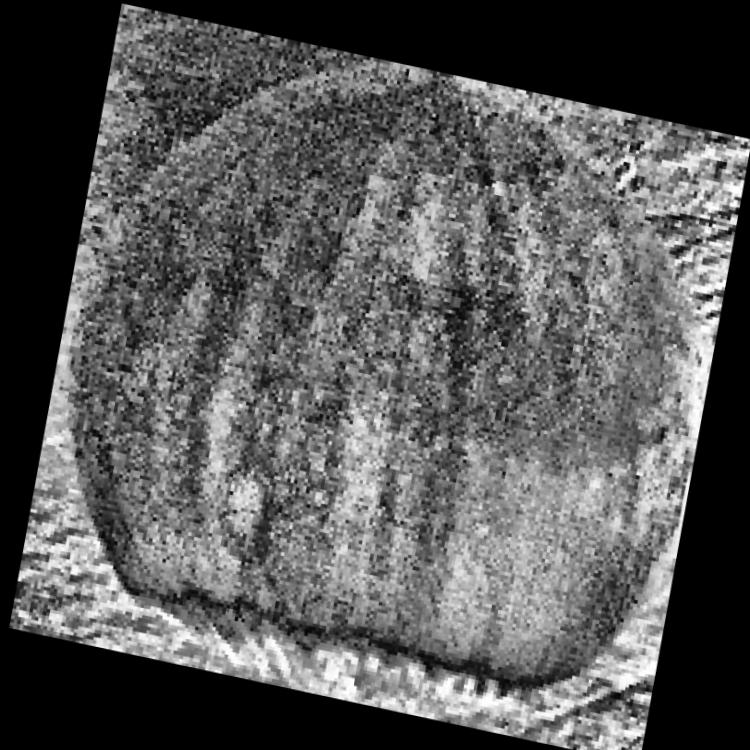qualityHazelnut: (0, 3, 750, 750)
